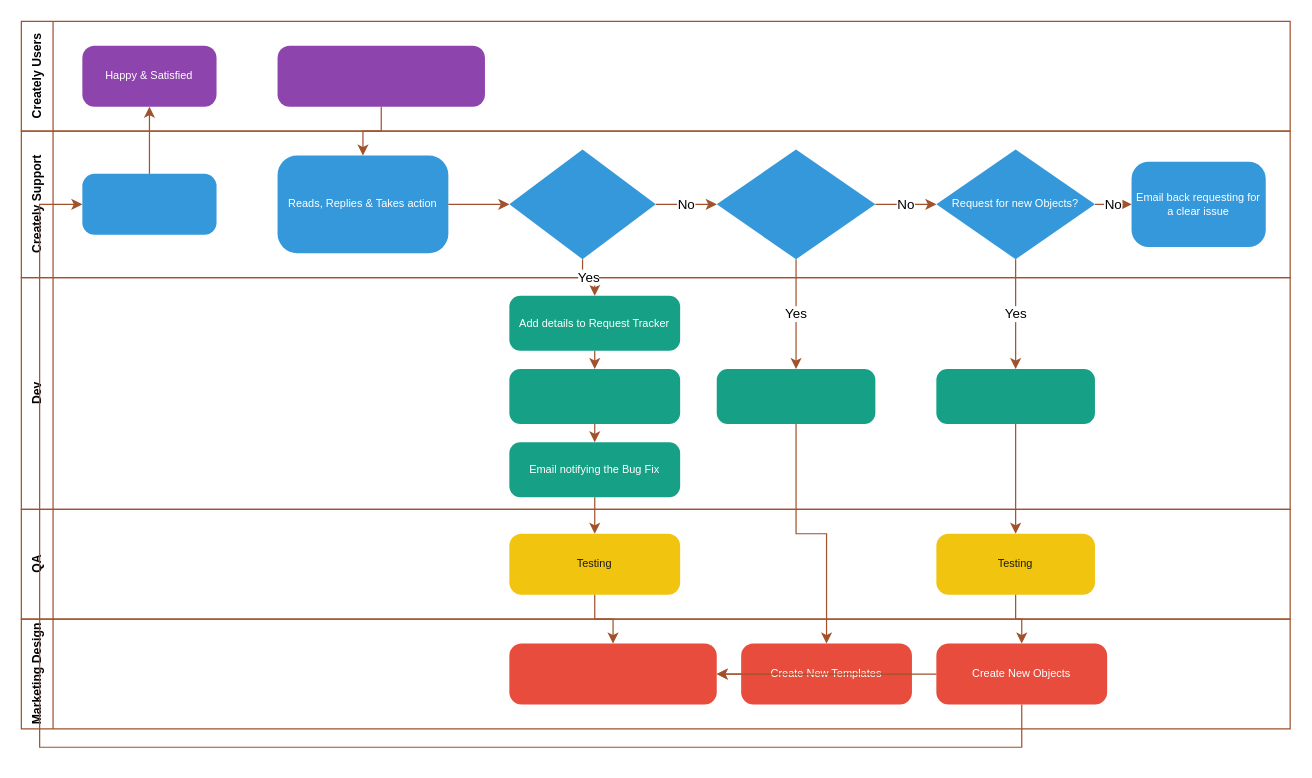
The diagram is 1312 pixels wide and 778 high, and some of its shapes have lost their labels. The shapes that lost their labels are listed below. From the top down, each one's centre as x and y in pixels, then its label:
the point at 380,75: Sends Email - support@creately.com
the point at 149,203: Notify User!
the point at 582,204: Reported Bug?
the point at 795,204: Request for Templates?
the point at 594,395: Bug Fixes
the point at 795,395: Push out as Templates
the point at 1015,395: Coding
the point at 612,673: Blog Announcing the latest news
